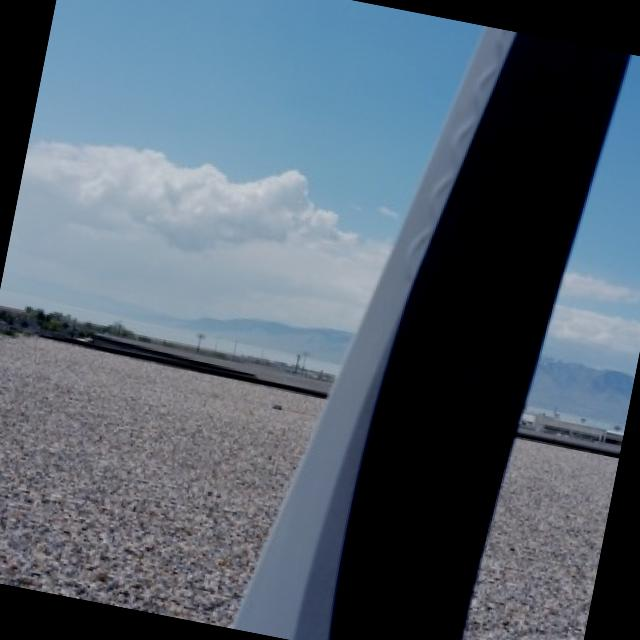healthy: (232, 28, 626, 640)
